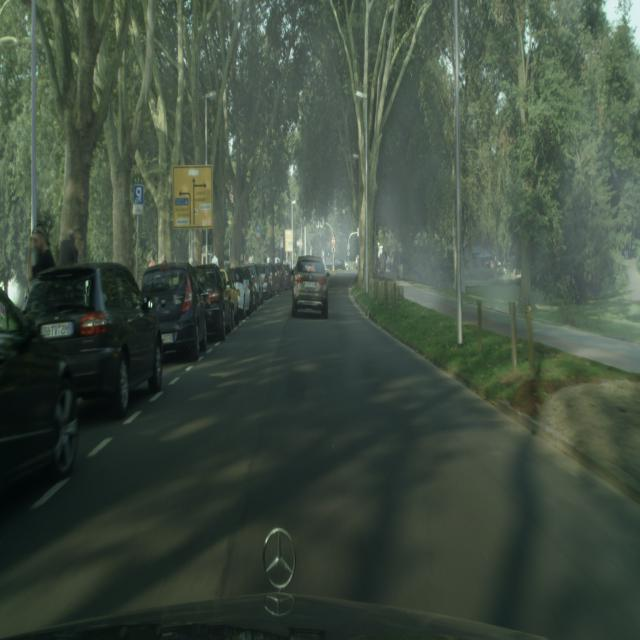person: (28, 226, 55, 281), (57, 231, 79, 266)
truck: (21, 261, 163, 417), (0, 286, 80, 493), (141, 262, 208, 362), (194, 264, 229, 341), (292, 256, 328, 318), (229, 266, 252, 316), (220, 269, 238, 331), (242, 263, 262, 309), (256, 264, 270, 302), (264, 262, 276, 296)
